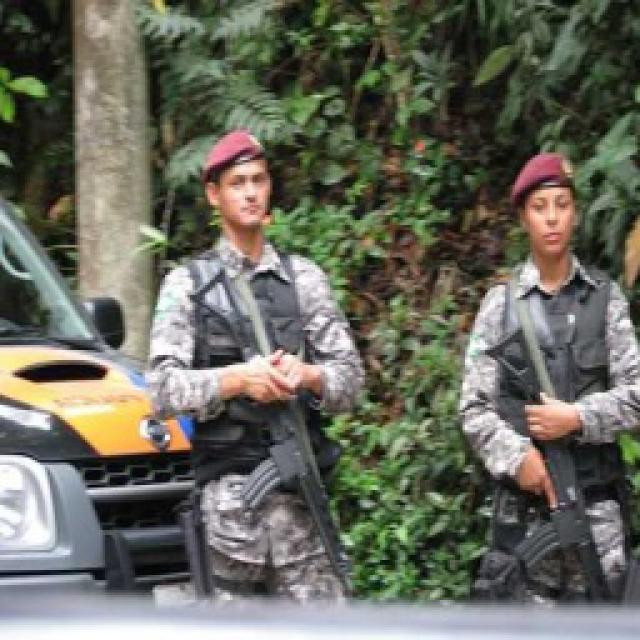long weapon: (177, 257, 383, 618), (464, 312, 635, 628)
